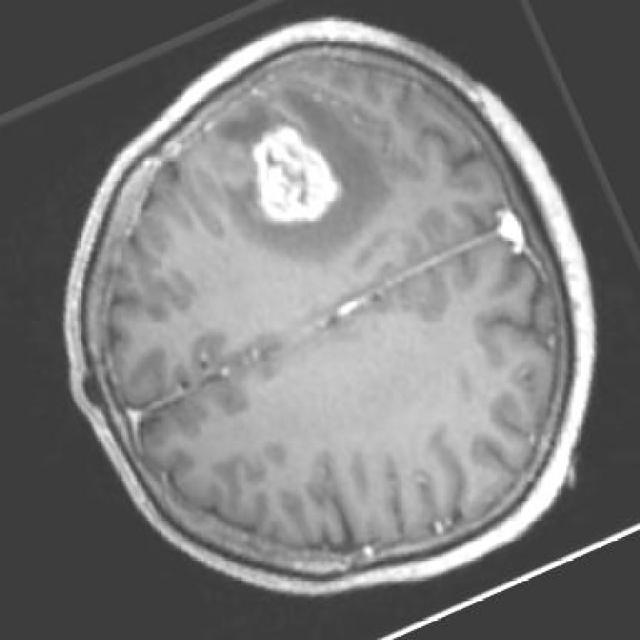Brain-Tumor: (236, 116, 356, 230)
